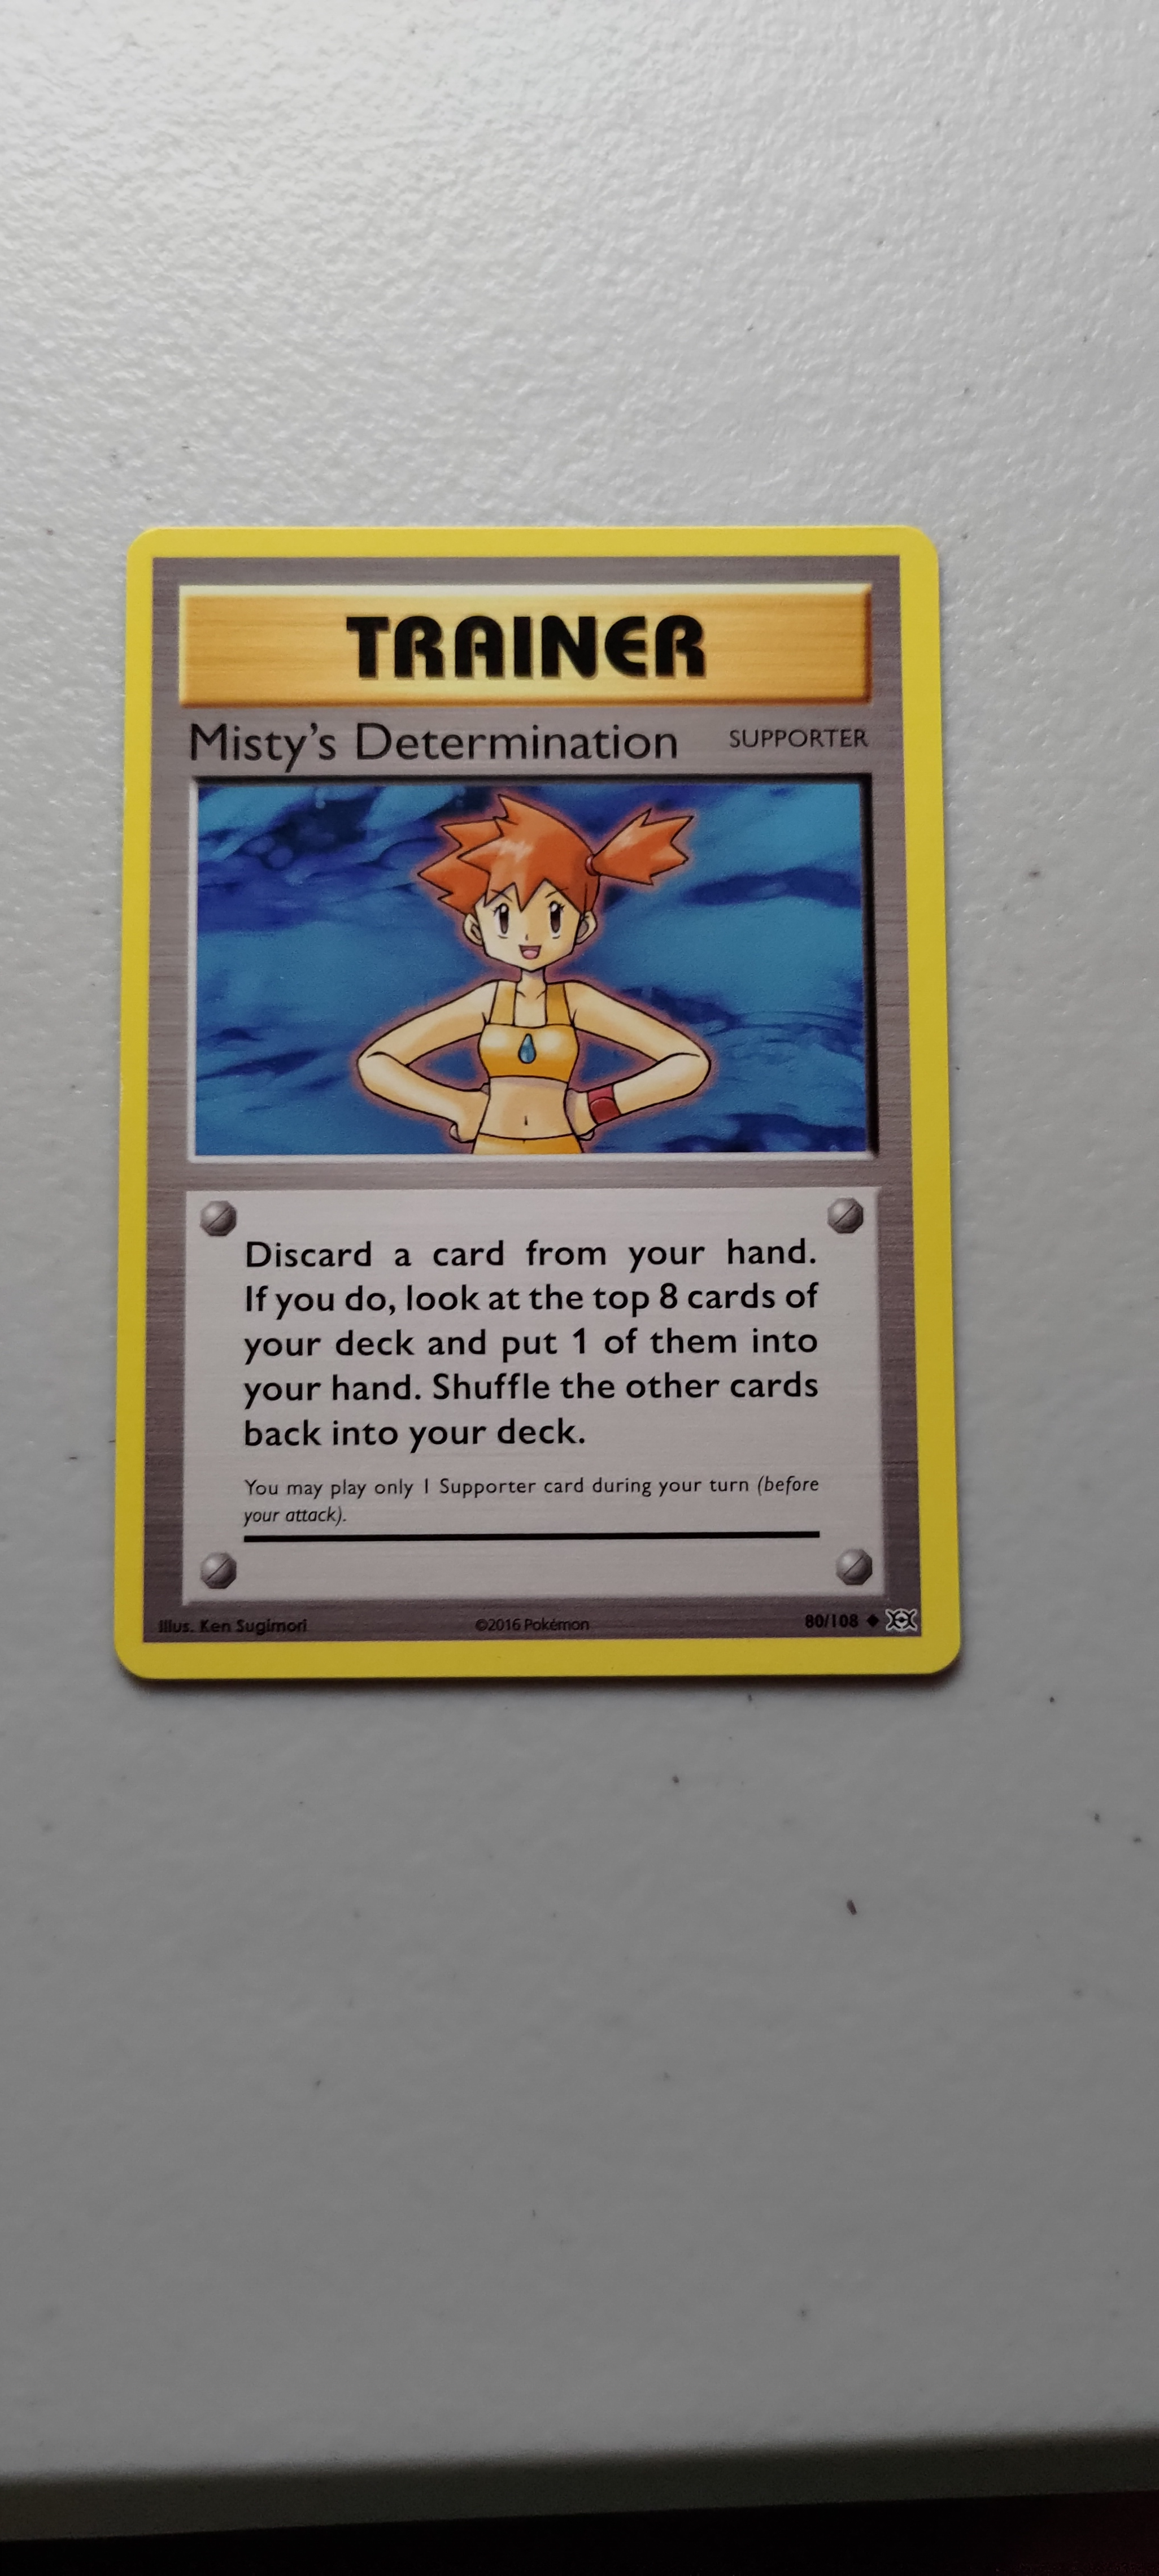pokemon_card: (98, 509, 973, 1713)
